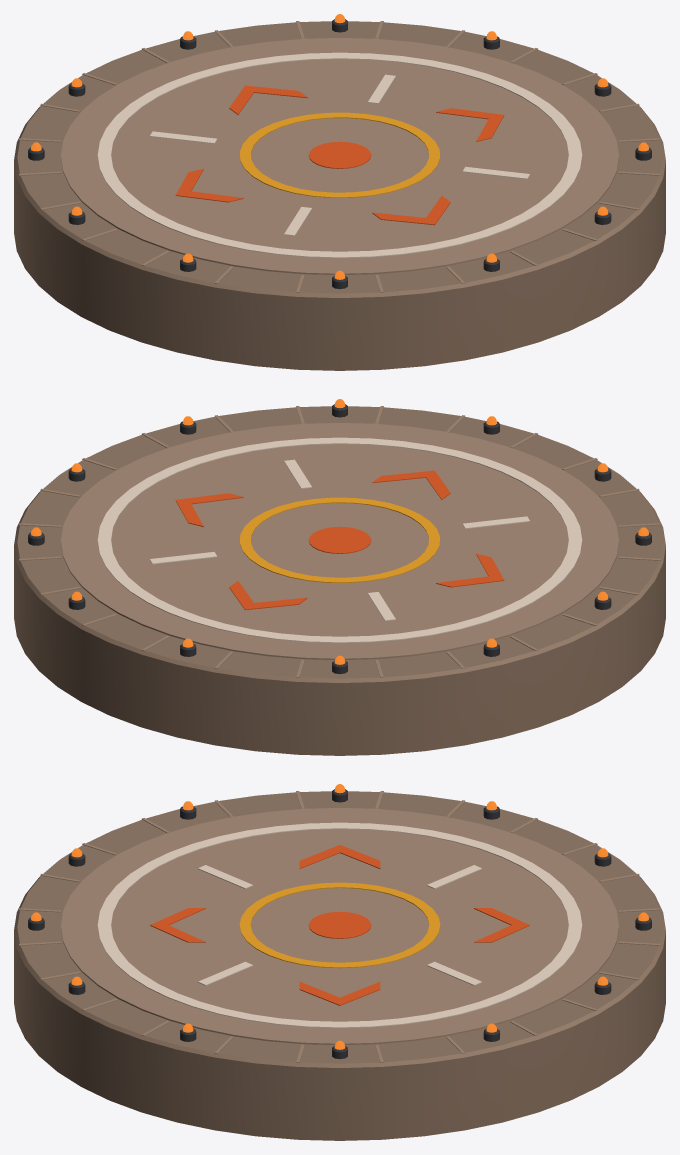
Rendered from landing_pad.glb.
3 views of the same model, one above another, from view 1: azimuth 30°, elevation 25°; view 2: azimuth 150°, elevation 25°; view 3: azimuth 270°, elevation 25° (orthographic).
Visible parts, largest first — view 1: landing_pad; view 2: landing_pad; view 3: landing_pad.
Part boxes in pixels (<box>): landing_pad: <box>14,14,665,370</box>; landing_pad: <box>14,399,665,755</box>; landing_pad: <box>14,784,665,1140</box>.
Size of the model in its own units: 5.84 by 0.895 by 5.84.
